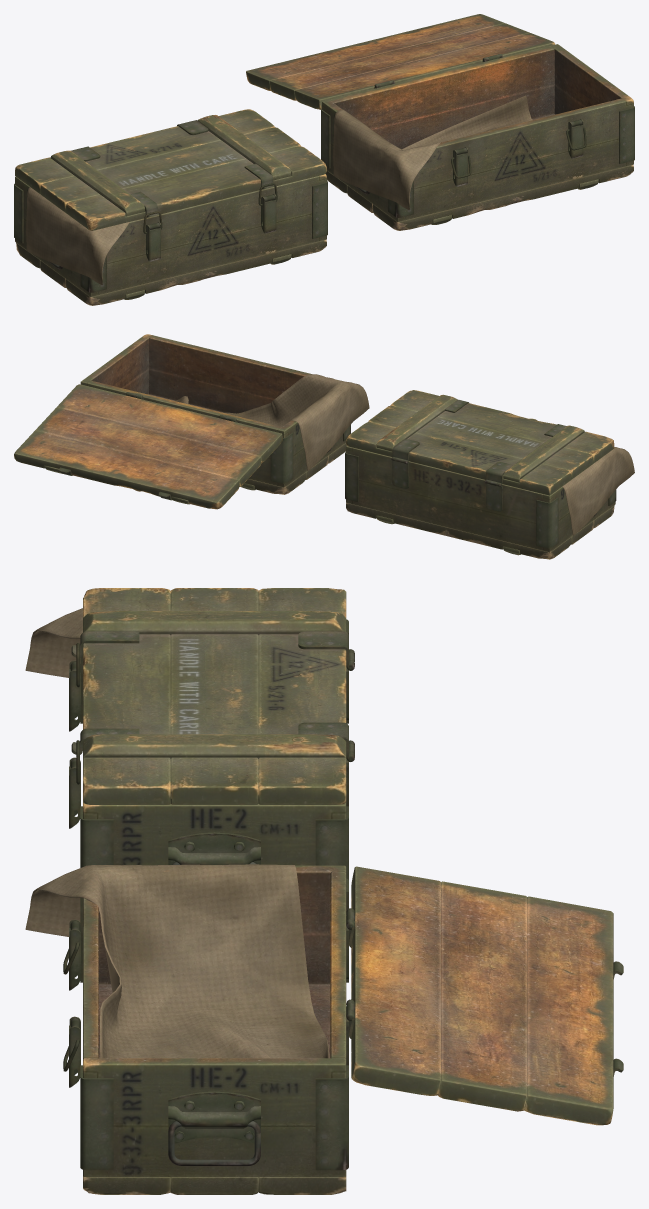
File: old_military_crate.glb
The picture shows the model from 3 angles, top to bottom: view 1: azimuth 30°, elevation 25°; view 2: azimuth 150°, elevation 25°; view 3: azimuth 270°, elevation 25°; orthographic projection. The views are drawn at different scales.
Visible parts, largest first — view 1: old_military_crate_b, old_military_crate_lid_a, old_military_crate_a, old_military_crate_lid_b, old_military_crate_cloth_b, old_military_crate_cloth_a, old_military_crate_latch_a, old_military_crate_latch_b; view 2: old_military_crate_lid_b, old_military_crate_lid_a, old_military_crate_a, old_military_crate_b, old_military_crate_cloth_b, old_military_crate_cloth_a; view 3: old_military_crate_lid_a, old_military_crate_lid_b, old_military_crate_b, old_military_crate_cloth_b, old_military_crate_a, old_military_crate_cloth_a, old_military_crate_latch_b, old_military_crate_latch_a.
Boxes of the visible parts, x1,y1,x2,y2 form: old_military_crate_b: (321, 44, 634, 230); old_military_crate_lid_a: (15, 109, 326, 230); old_military_crate_a: (14, 174, 327, 305); old_military_crate_lid_b: (246, 14, 555, 109); old_military_crate_cloth_b: (333, 95, 532, 209); old_military_crate_cloth_a: (26, 187, 129, 284); old_military_crate_latch_a: (146, 194, 276, 261); old_military_crate_latch_b: (453, 119, 583, 186); old_military_crate_lid_b: (14, 384, 282, 509); old_military_crate_lid_a: (346, 390, 614, 495); old_military_crate_a: (345, 446, 616, 559); old_military_crate_b: (80, 334, 350, 494); old_military_crate_cloth_b: (174, 374, 369, 470); old_military_crate_cloth_a: (562, 447, 634, 535); old_military_crate_lid_a: (71, 588, 354, 804); old_military_crate_lid_b: (346, 866, 623, 1125); old_military_crate_b: (80, 865, 354, 1194); old_military_crate_cloth_b: (25, 864, 329, 1058); old_military_crate_a: (80, 619, 354, 879); old_military_crate_cloth_a: (25, 608, 82, 677); old_military_crate_latch_b: (69, 919, 80, 1087); old_military_crate_latch_a: (69, 660, 80, 828).
Size of the model in its own units: 1.82 by 0.3009 by 0.9757.
Materials: 1 (1 with a texture image).
